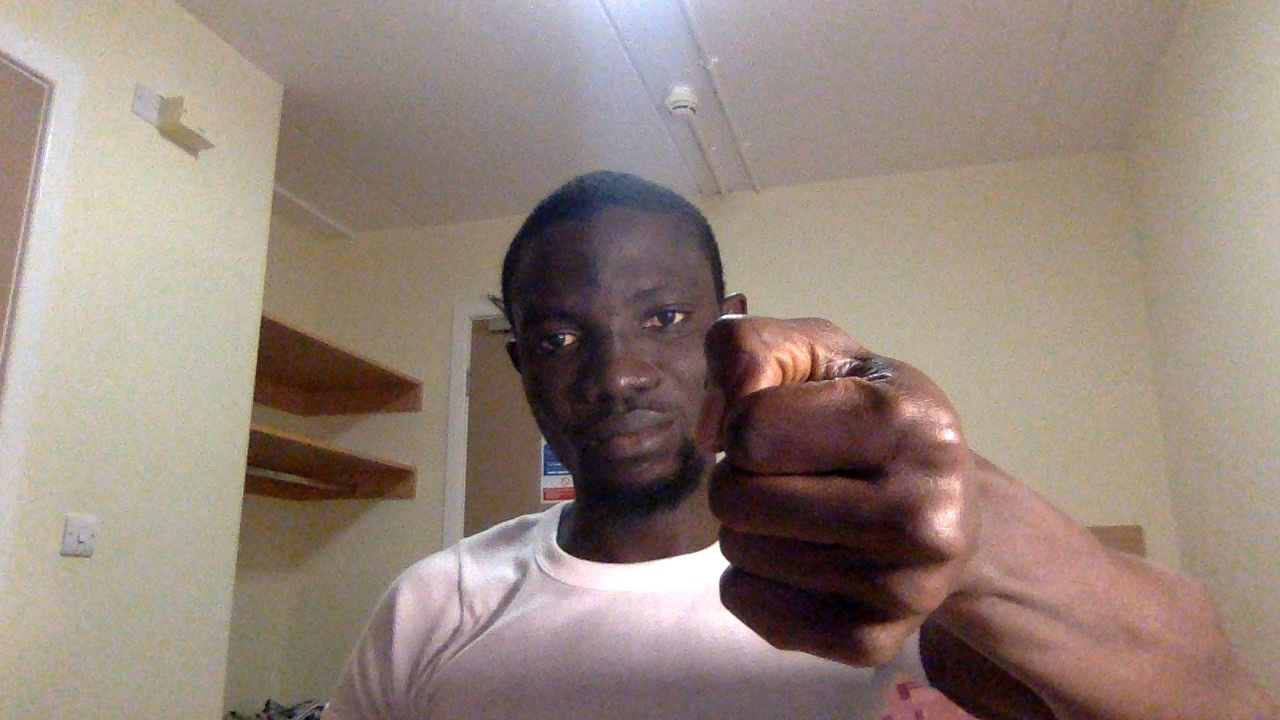Yes: (686, 303, 1004, 688)
